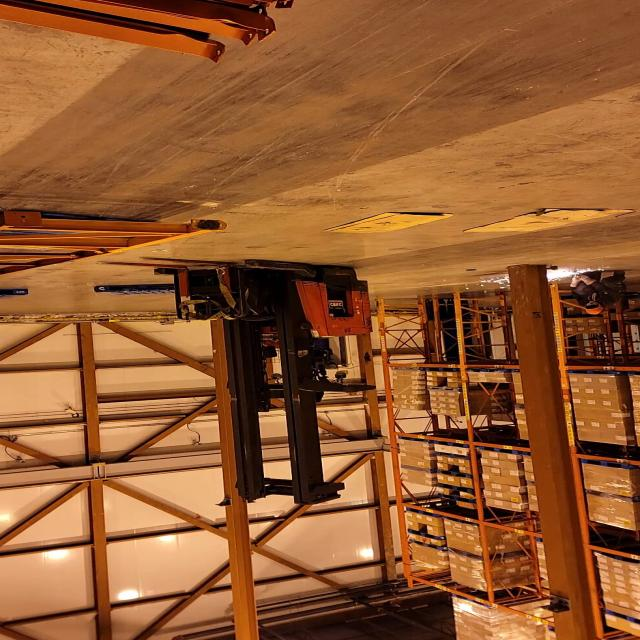forklift: (150, 254, 376, 496)
human: (559, 267, 633, 316)
objectofinterest: (0, 200, 231, 285), (462, 209, 640, 235), (320, 210, 452, 238), (90, 282, 197, 299), (0, 286, 34, 304)
